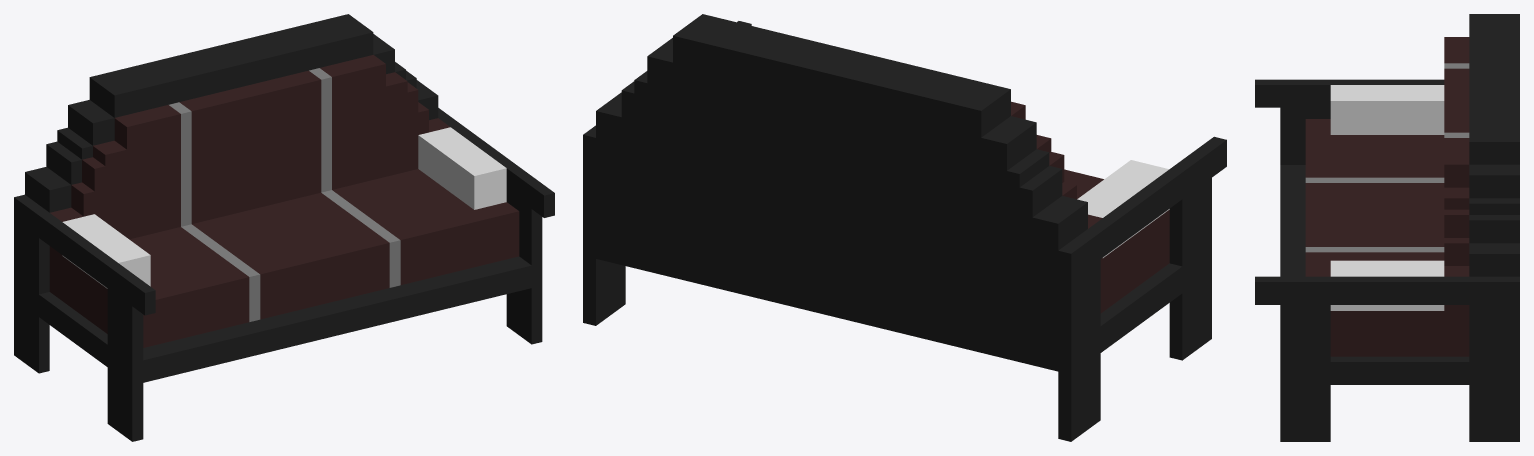
The model's file is couch.obj.
3 views of the same model, side by side, from view 1: azimuth 30°, elevation 25°; view 2: azimuth 150°, elevation 25°; view 3: azimuth 270°, elevation 25° (orthographic). The views are drawn at different scales.
Size of the model in its own units: 3.8 by 2.3 by 2.1.
Materials: 1 (1 with a texture image).
